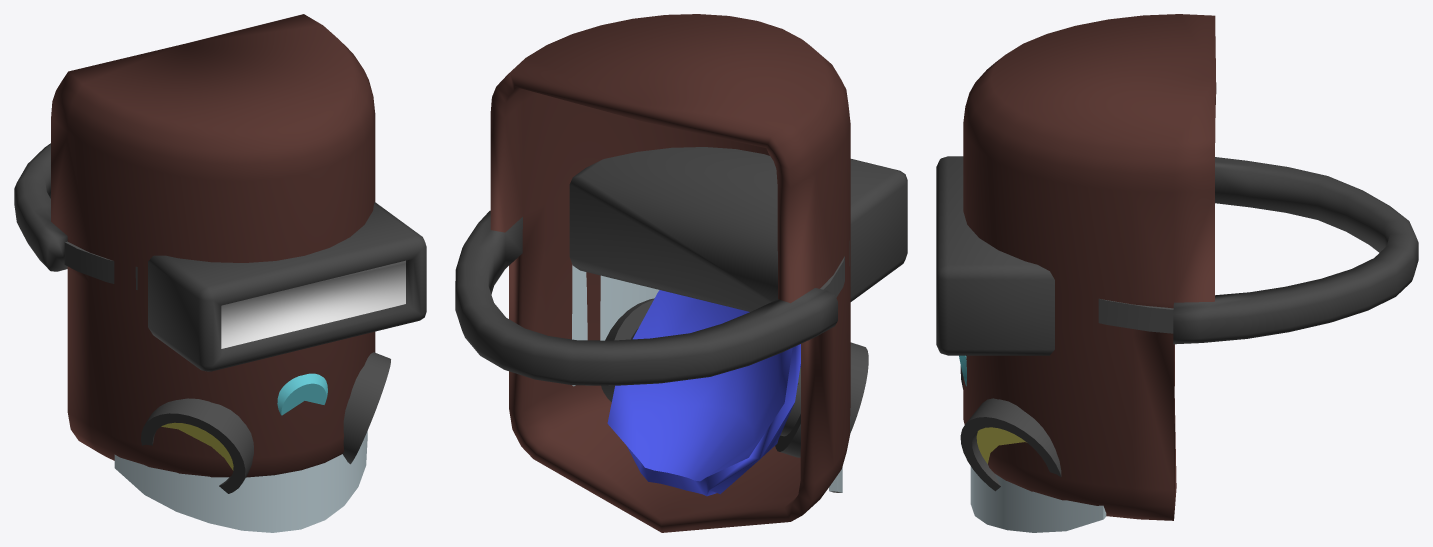
File: Masks.fbx
3 renders of one model, left to right at view 1: azimuth 30°, elevation 25°; view 2: azimuth 150°, elevation 25°; view 3: azimuth 270°, elevation 25°, orthographic. The views are drawn at different scales.
Parts seen in each view (by area): view 1: Spark Mask, Face Shield, Cylinders, Details; view 2: Spark Mask, Gas Mask, Face Shield, Cylinders; view 3: Spark Mask, Face Shield, Cylinders.
Boxes of the visible parts, x1,y1,x2,y2 form: Spark Mask: (14, 14, 426, 477); Face Shield: (64, 241, 367, 532); Cylinders: (141, 352, 390, 493); Details: (277, 373, 327, 415); Spark Mask: (455, 14, 907, 532); Gas Mask: (607, 290, 800, 496); Face Shield: (572, 241, 849, 492); Cylinders: (601, 298, 868, 457); Spark Mask: (936, 14, 1418, 520); Face Shield: (970, 299, 1173, 532); Cylinders: (960, 366, 1061, 491).
Size of the model in its own units: 50.81 by 61.83 by 63.16.
